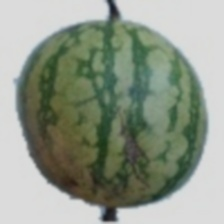watermelon: (26, 5, 164, 194)
